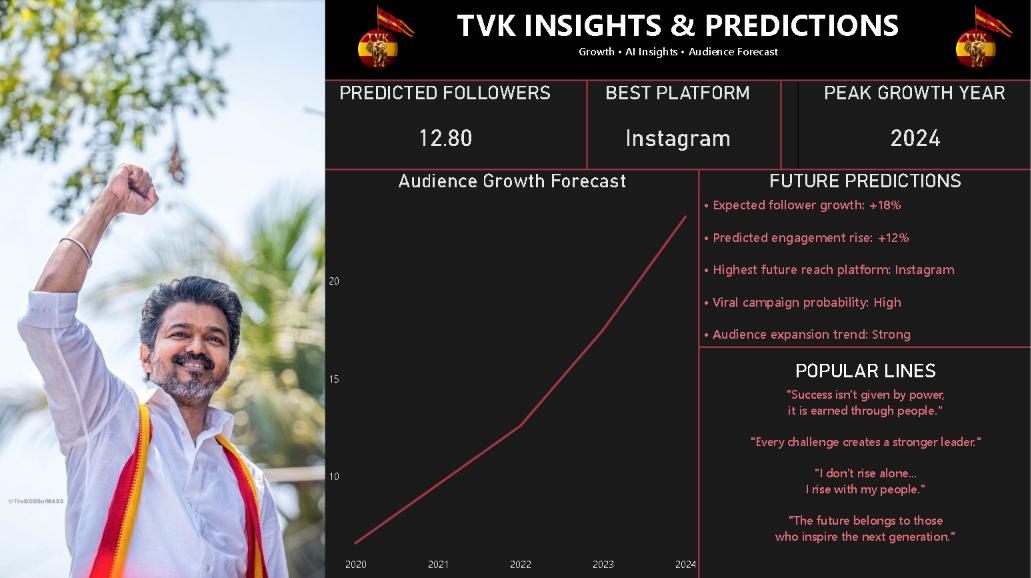

What the dashboard file says about the page in this screenshot:
{"tool":"powerbi","page":{"name":"Insights & Predictions","canvas":[1280,720],"ordinal":3},"visuals":[{"type":"image","box":[0,0,404.3,719.2],"z":0},{"type":"textbox","box":[404.3,0,875.2,59.1],"z":1000},{"type":"textbox","box":[404.3,48.5,875.2,34.8],"z":2000},{"type":"image","box":[1146.3,0,133.3,101.5],"z":3000},{"type":"card","title":"PREDICTED FOLLOWERS","fields":{"Values":["Max(social_media.FollowersMillions)"]},"box":[404.3,101.5,296.8,109],"z":4000},{"type":"card","title":"BEST PLATFORM","fields":{"Values":["Min(social_media.Platform)"]},"box":[693.5,101.5,296.8,109],"z":5000},{"type":"card","title":"PEAK GROWTH YEAR","fields":{"Values":["Max(social_media.Year)"]},"box":[990.3,101.5,289.2,109],"z":6000},{"type":"lineChart","title":"Audience Growth Forecast","fields":{"Category":["social_media.Year"],"Y":["Sum(social_media.FollowersMillions)"]},"box":[404.3,210.5,463.3,508.8],"z":7000},{"type":"image","box":[404.3,0,133.3,101.5],"z":8000},{"type":"textbox","title":"FUTURE PREDICTIONS","box":[867.6,210.5,411.9,236.2],"z":9000},{"type":"textbox","title":"POPULAR LINES","box":[868,446,412,273],"z":10000},{"type":"shape","box":[867.6,414.9,411.9,31.8],"z":11000},{"type":"shape","box":[816.2,210.5,103,508.8],"z":12000},{"type":"shape","box":[404.3,189.3,875.2,42.4],"z":13000},{"type":"shape","box":[404.3,69.7,875.2,62.1],"z":13001},{"type":"shape","box":[693.5,101.5,71.2,109],"z":13002},{"type":"shape","box":[934.3,101.5,71.2,109],"z":13003}]}

Visuals, with their boxes in screenshot pixels (x1, y1, x2, y2), scaled from the page's 1280x720 canvas onto the 1031x578 screenshot:
image: l=0, t=0, r=326, b=577
textbox: l=326, t=0, r=1030, b=47
textbox: l=326, t=39, r=1030, b=67
image: l=923, t=0, r=1030, b=81
"PREDICTED FOLLOWERS" card: l=326, t=81, r=565, b=169
"BEST PLATFORM" card: l=559, t=81, r=798, b=169
"PEAK GROWTH YEAR" card: l=798, t=81, r=1030, b=169
"Audience Growth Forecast" lineChart: l=326, t=169, r=699, b=577
image: l=326, t=0, r=433, b=81
"FUTURE PREDICTIONS" textbox: l=699, t=169, r=1030, b=359
"POPULAR LINES" textbox: l=699, t=358, r=1030, b=577
shape: l=699, t=333, r=1030, b=359
shape: l=657, t=169, r=740, b=577
shape: l=326, t=152, r=1030, b=186
shape: l=326, t=56, r=1030, b=106
shape: l=559, t=81, r=616, b=169
shape: l=753, t=81, r=810, b=169
